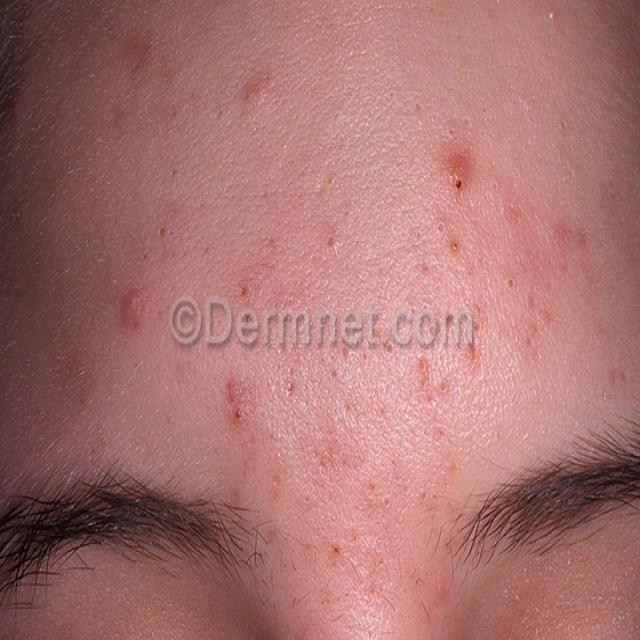acne: (114, 16, 190, 92), (226, 66, 298, 127), (212, 353, 259, 446), (430, 136, 476, 213), (118, 290, 156, 352)
